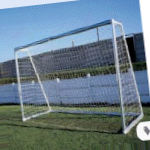goals: (13, 18, 144, 135)
